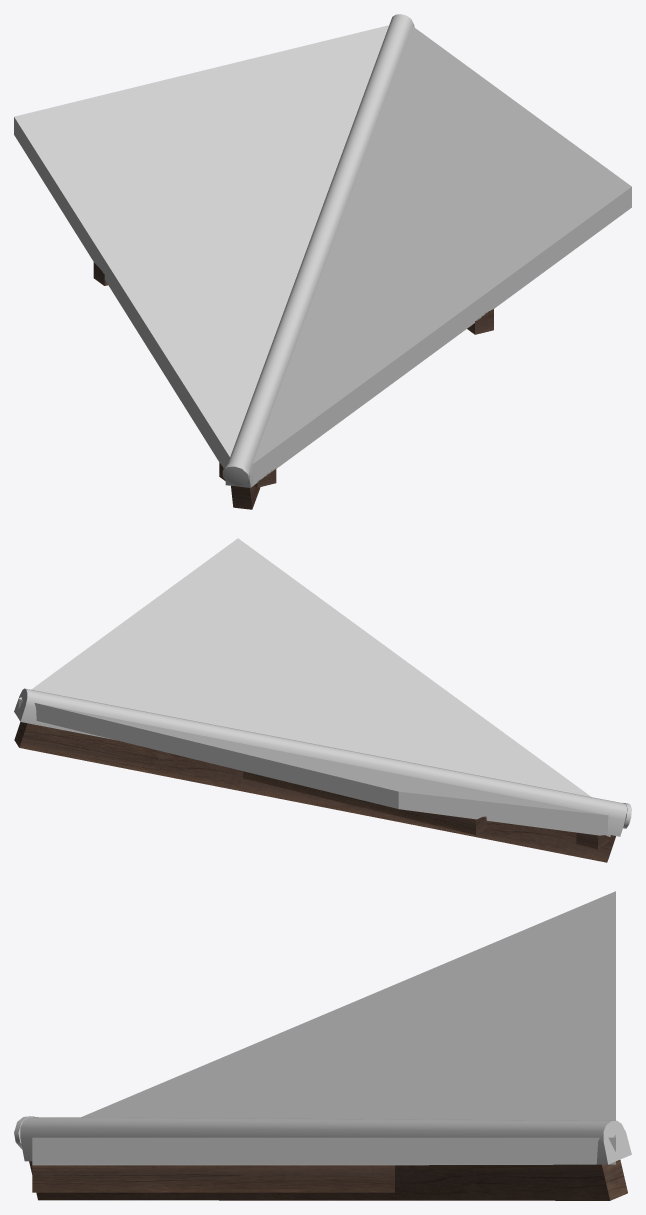
Rendered from kawara_2x2t_a1corner_cav.fbx.
3 renders of one model, top to bottom at view 1: azimuth 30°, elevation 25°; view 2: azimuth 150°, elevation 25°; view 3: azimuth 270°, elevation 25°, orthographic. The views are drawn at different scales.
Parts seen in each view (by area): view 1: kawara_2x2t_a1corner_cav; view 2: kawara_2x2t_a1corner_cav; view 3: kawara_2x2t_a1corner_cav.
Boxes of the visible parts, x1,y1,x2,y2 form: kawara_2x2t_a1corner_cav: (14,14,631,509); kawara_2x2t_a1corner_cav: (14,538,631,862); kawara_2x2t_a1corner_cav: (14,891,631,1200).
Bounding box in the file's own units: 283 × 158 × 283.
